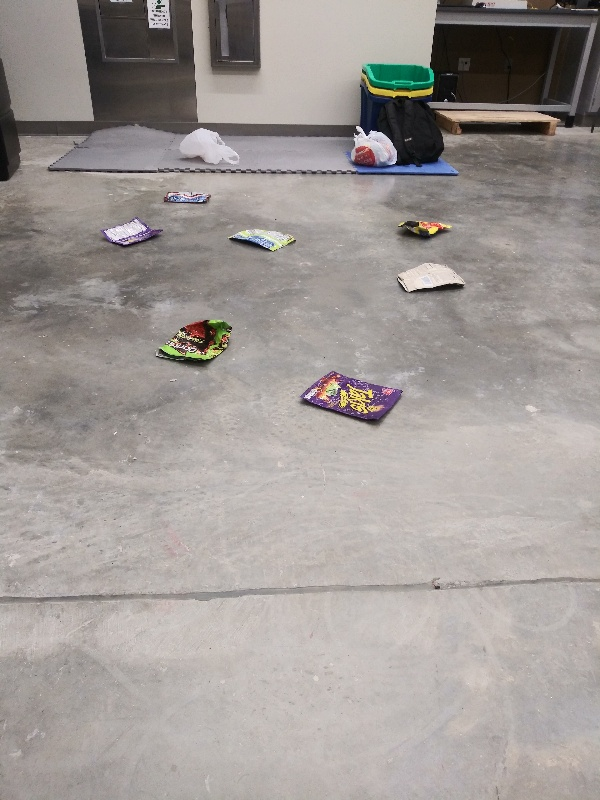bag: (296, 368, 406, 428), (149, 316, 234, 365), (394, 259, 472, 295), (96, 215, 168, 250), (223, 225, 299, 254), (393, 215, 460, 240), (163, 186, 215, 204)
